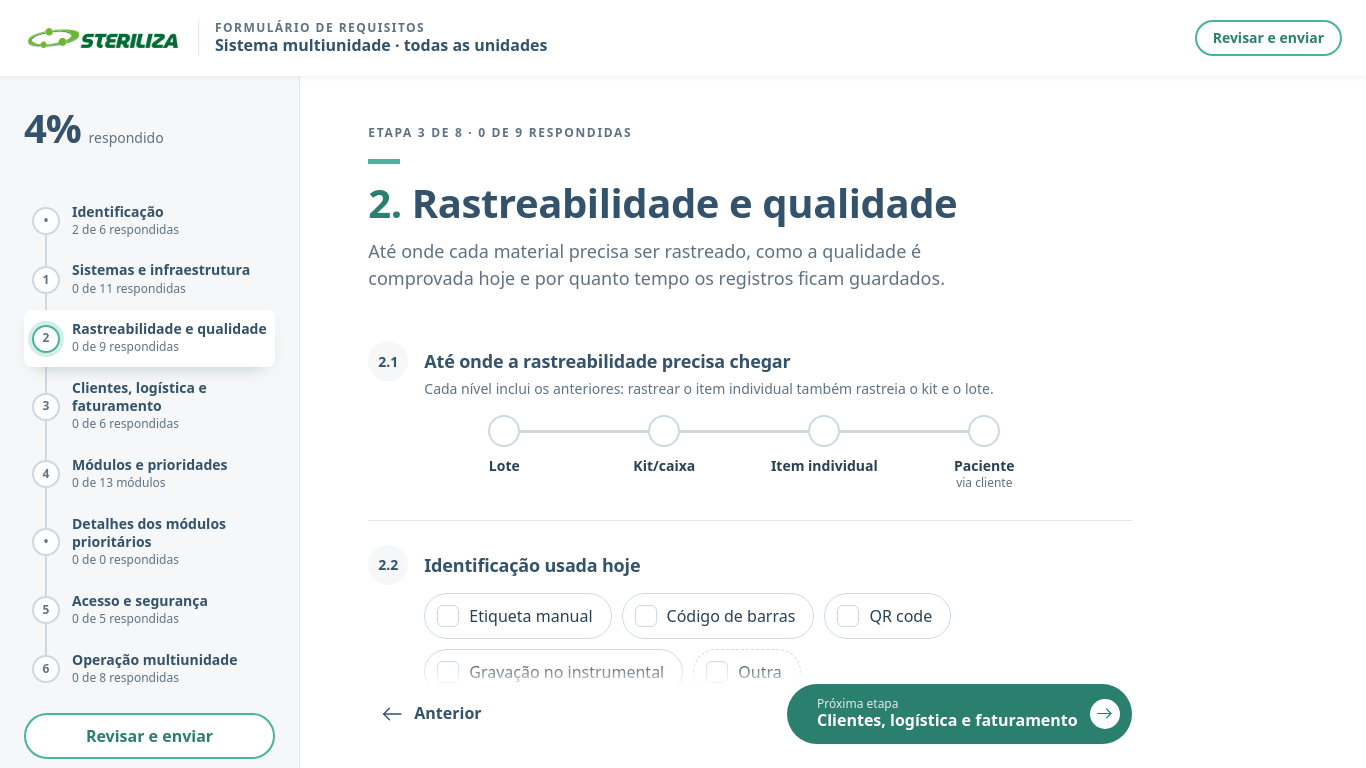
Test: fluxo completo › salva automaticamente e mostra o progresso ao voltar para o início
Click the checkbox labelled "QR code". click: (888, 616)
box: [824,593,951,639]
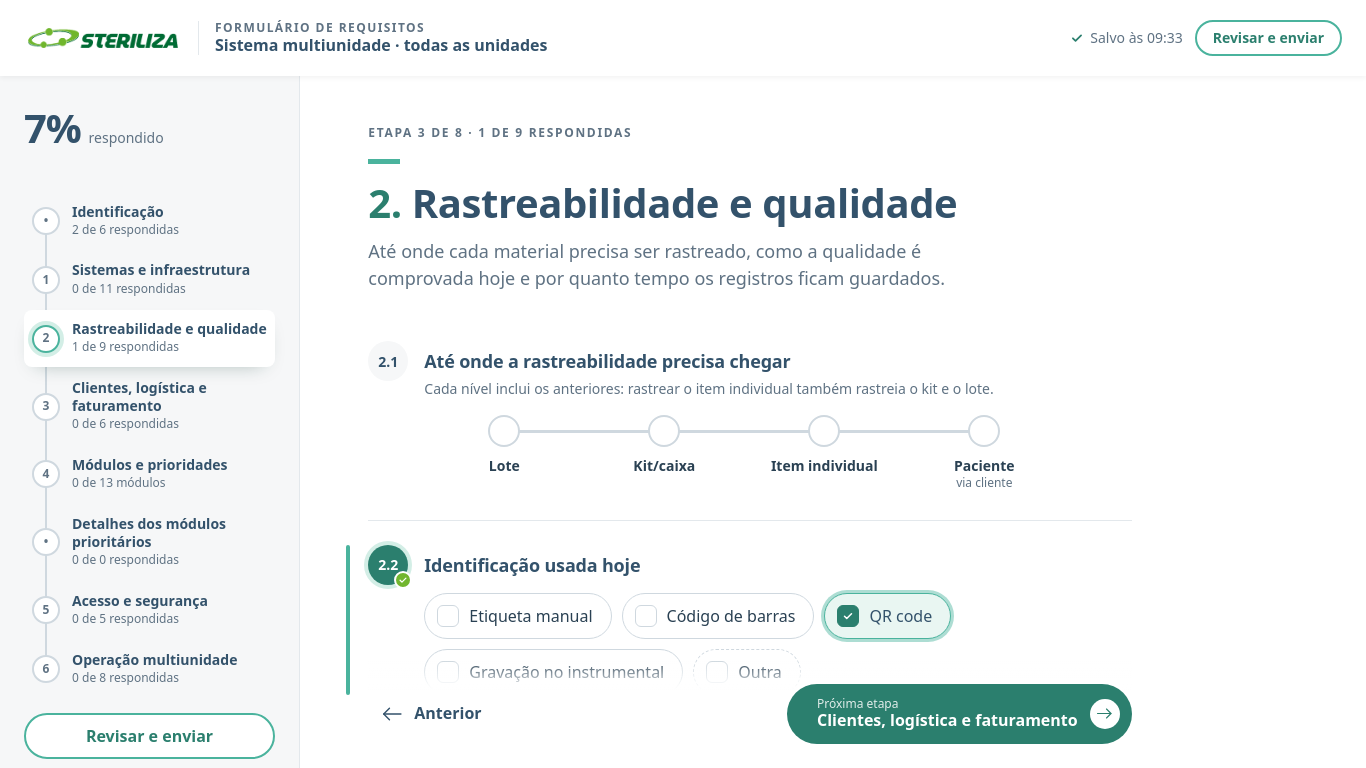
Check: the text "Salvo às 09:33" is shown, box [1090,27,1183,49]
Click the button named "Voltar ao início". click: (103, 38)
box: [24,24,182,52]
(page scrolled)
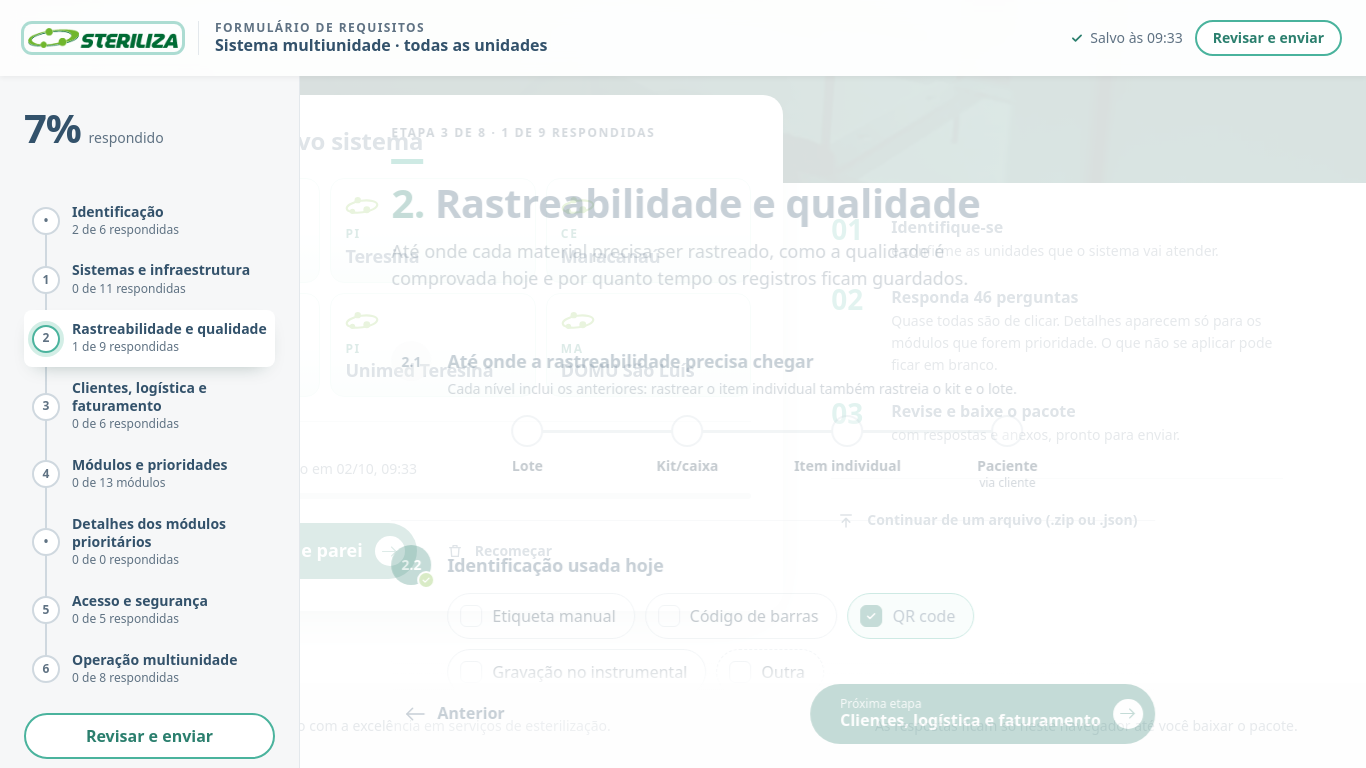
Check: the button "Continuar de onde parei" is shown, box [115,523,417,579]
Check: the text "7% respondido · atualizado em 02/10, 09:33" is shown, box [115,448,417,481]
